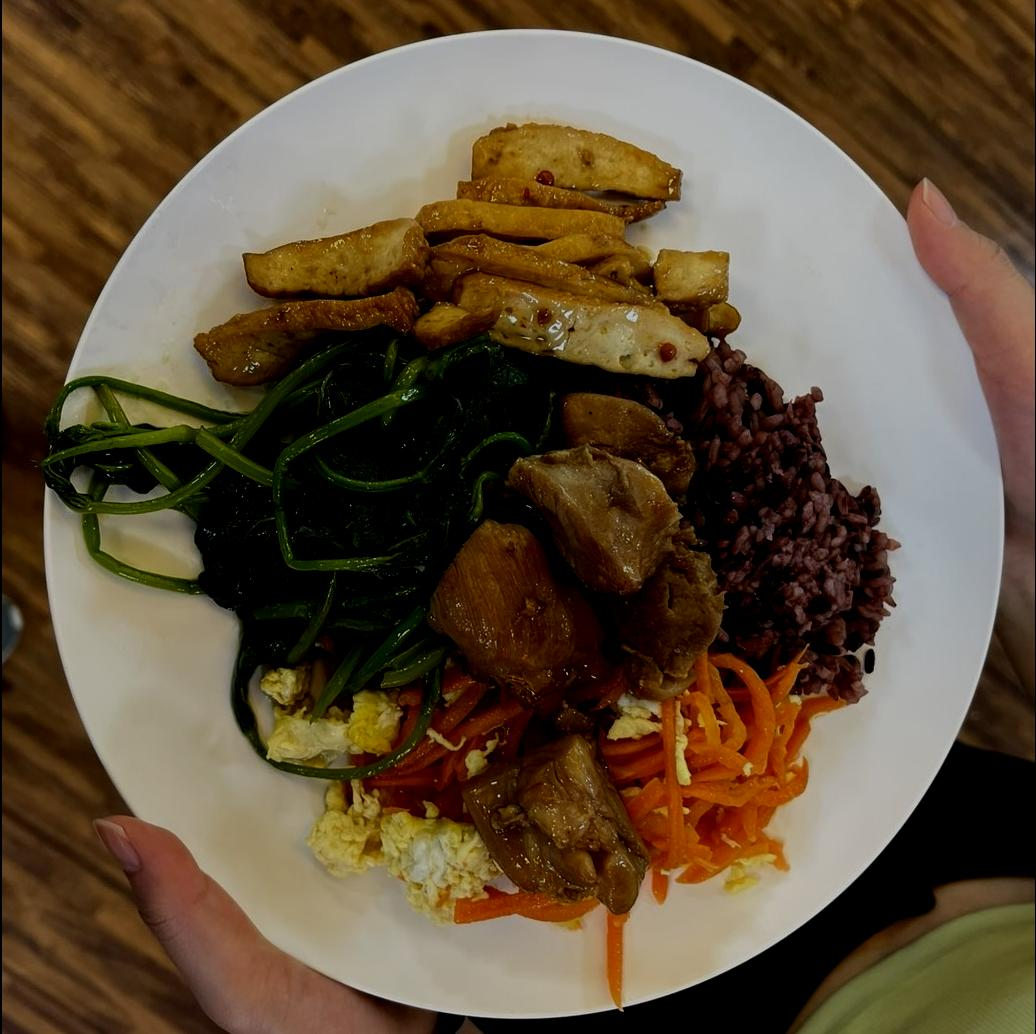big fried chicken leg: (47, 34, 987, 1026)
braised fish: (684, 344, 904, 717)
braised fish fillet: (51, 344, 544, 669), (203, 127, 744, 392), (303, 664, 802, 937)
braised pork: (438, 362, 729, 908)
